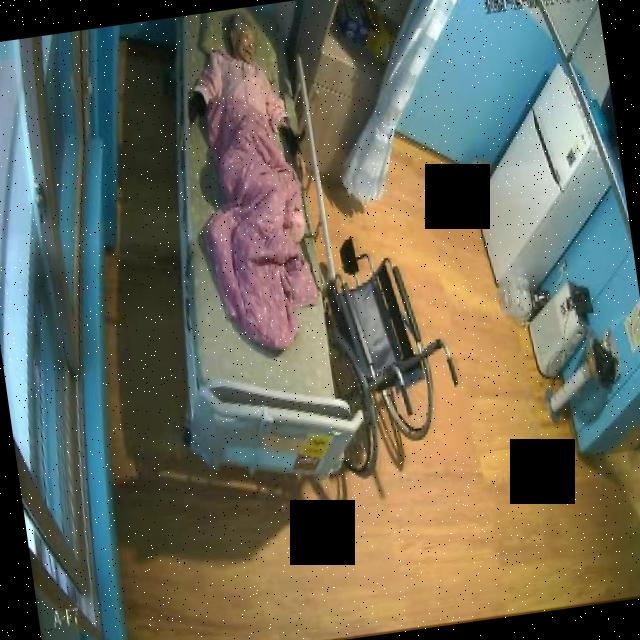bed: (134, 1, 356, 487)
lie: (173, 4, 329, 364)
patient: (175, 4, 306, 168)
